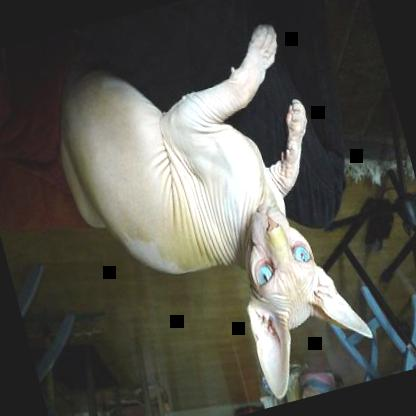cat: (39, 17, 383, 415)
